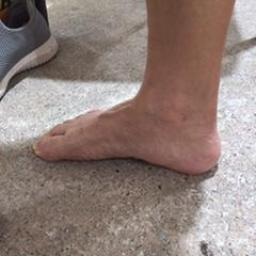Medial View -Right Foot-: (26, 72, 236, 190)
